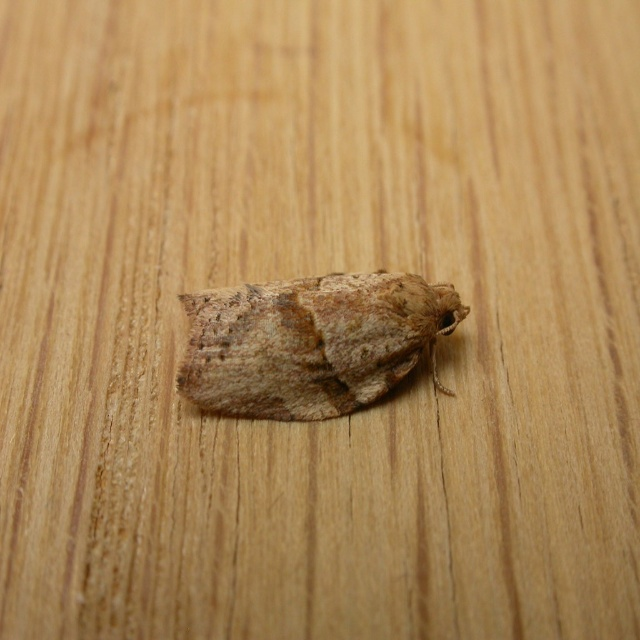Moths and butterflies: (172, 267, 476, 426)
